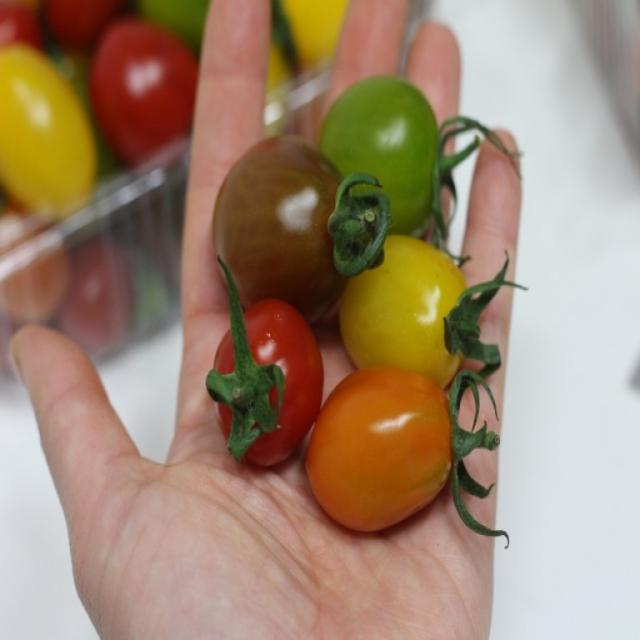level 1: (321, 62, 448, 236)
level 4: (314, 236, 486, 372)
level 5: (278, 354, 472, 559)
level 6: (185, 282, 338, 489)
